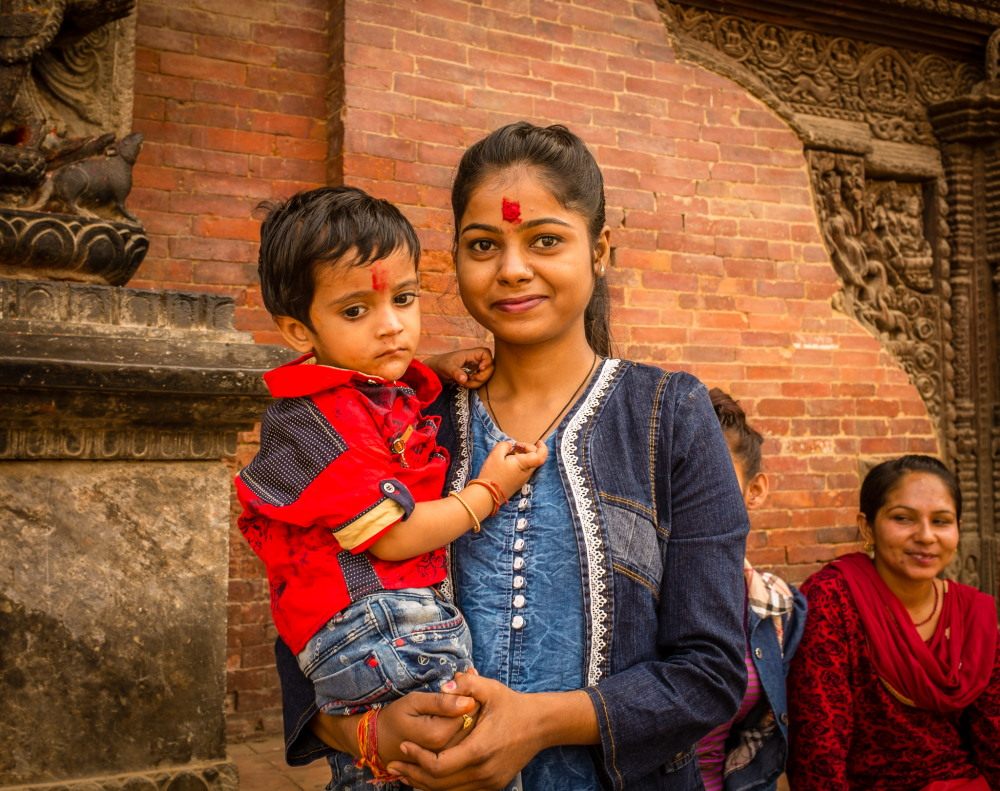human: (258, 109, 761, 791), (220, 179, 509, 791), (783, 440, 1000, 791)
